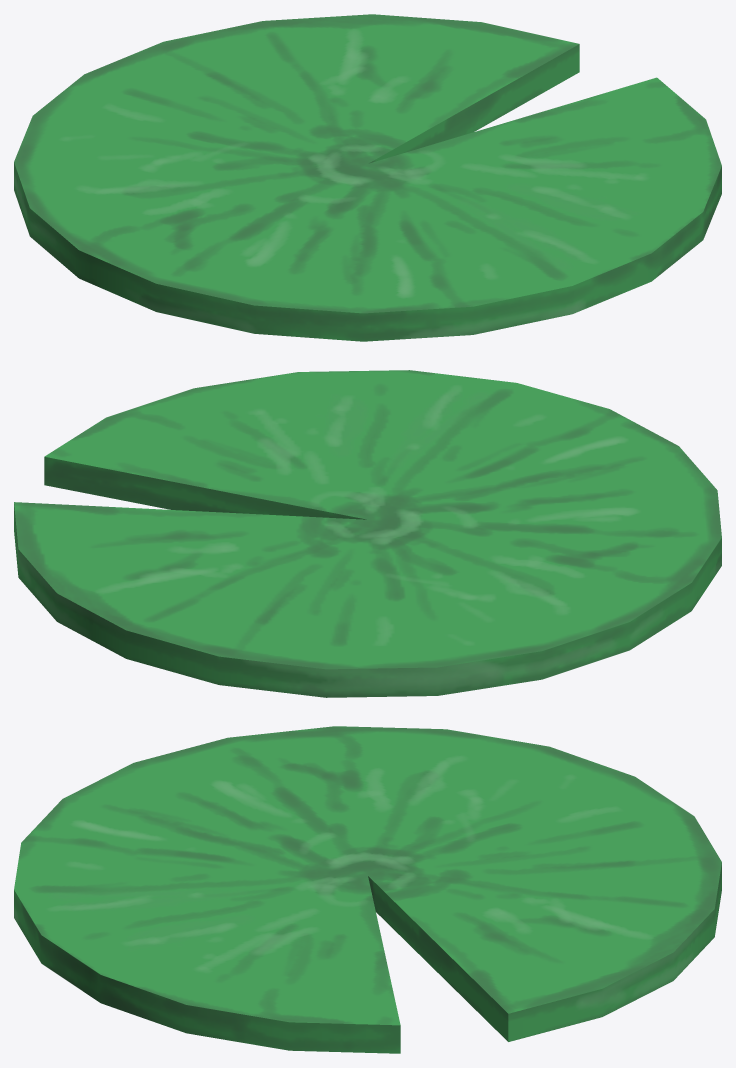
The model's file is Compulsory 3 export.obj.
The picture shows the model from 3 angles, top to bottom: view 1: azimuth 30°, elevation 25°; view 2: azimuth 150°, elevation 25°; view 3: azimuth 270°, elevation 25°; orthographic projection.
Parts seen in each view (by area): view 1: textureEditorIsolateSelectSet pCylinder3; view 2: textureEditorIsolateSelectSet pCylinder3; view 3: textureEditorIsolateSelectSet pCylinder3.
Boxes of the visible parts, left/top/right/bottom form: textureEditorIsolateSelectSet pCylinder3: left=14, top=14, right=721, bottom=341; textureEditorIsolateSelectSet pCylinder3: left=14, top=370, right=721, bottom=697; textureEditorIsolateSelectSet pCylinder3: left=14, top=726, right=721, bottom=1053.
Bounding box in the file's own units: 1.1 × 0.0486 × 1.1.
